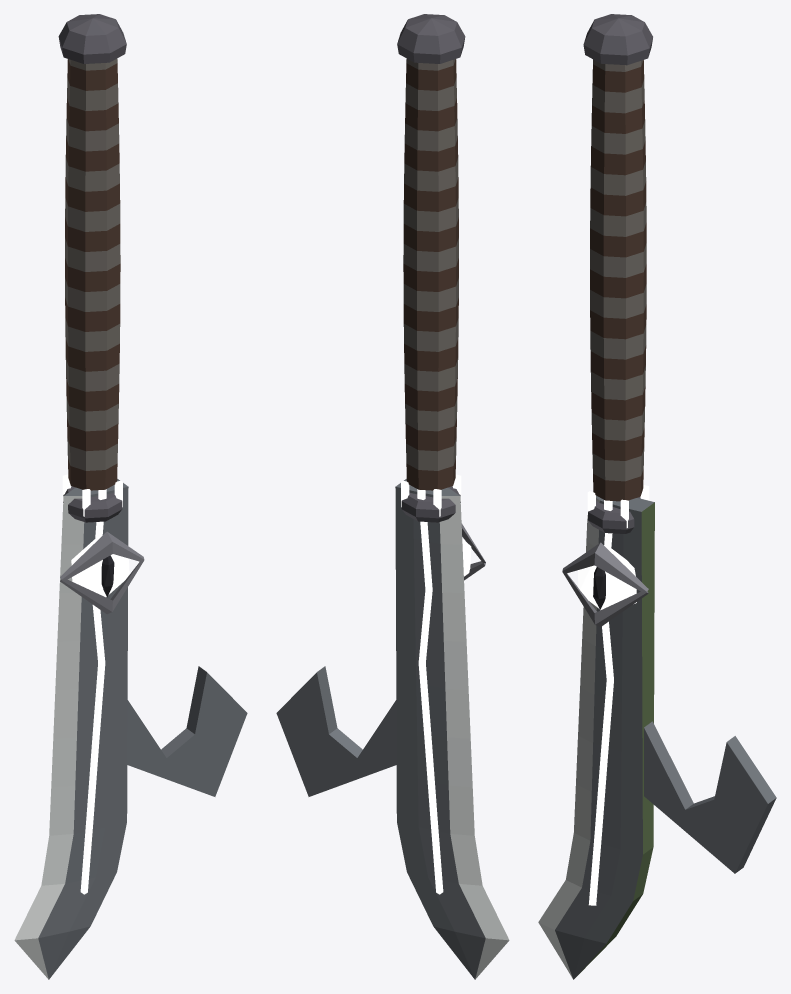
The model's file is blade-brush-hook.glb.
3 views of the same model, side by side, from view 1: azimuth 30°, elevation 25°; view 2: azimuth 150°, elevation 25°; view 3: azimuth 330°, elevation 25° (orthographic). The views are drawn at different scales.
Visible parts, largest first — view 1: blade-brush-hook, blink_eye, pulse_vein, pulse_breath; view 2: blade-brush-hook, pulse_vein, blink_eye, pulse_breath; view 3: blade-brush-hook, blink_eye, pulse_vein, pulse_breath.
Boxes of the visible parts, x1,y1,x2,y2 form: blade-brush-hook: (14, 14, 247, 979); blink_eye: (60, 531, 144, 614); pulse_vein: (80, 521, 105, 894); pulse_breath: (62, 474, 122, 516); blade-brush-hook: (276, 14, 509, 979); pulse_vein: (418, 521, 443, 894); blink_eye: (461, 523, 485, 580); pulse_breath: (401, 474, 461, 516); blade-brush-hook: (538, 14, 776, 979); blink_eye: (562, 542, 648, 626); pulse_vein: (588, 533, 613, 905); pulse_breath: (587, 485, 649, 527).
Size of the model in its own units: 0.2829 by 1.12 by 0.0844.
